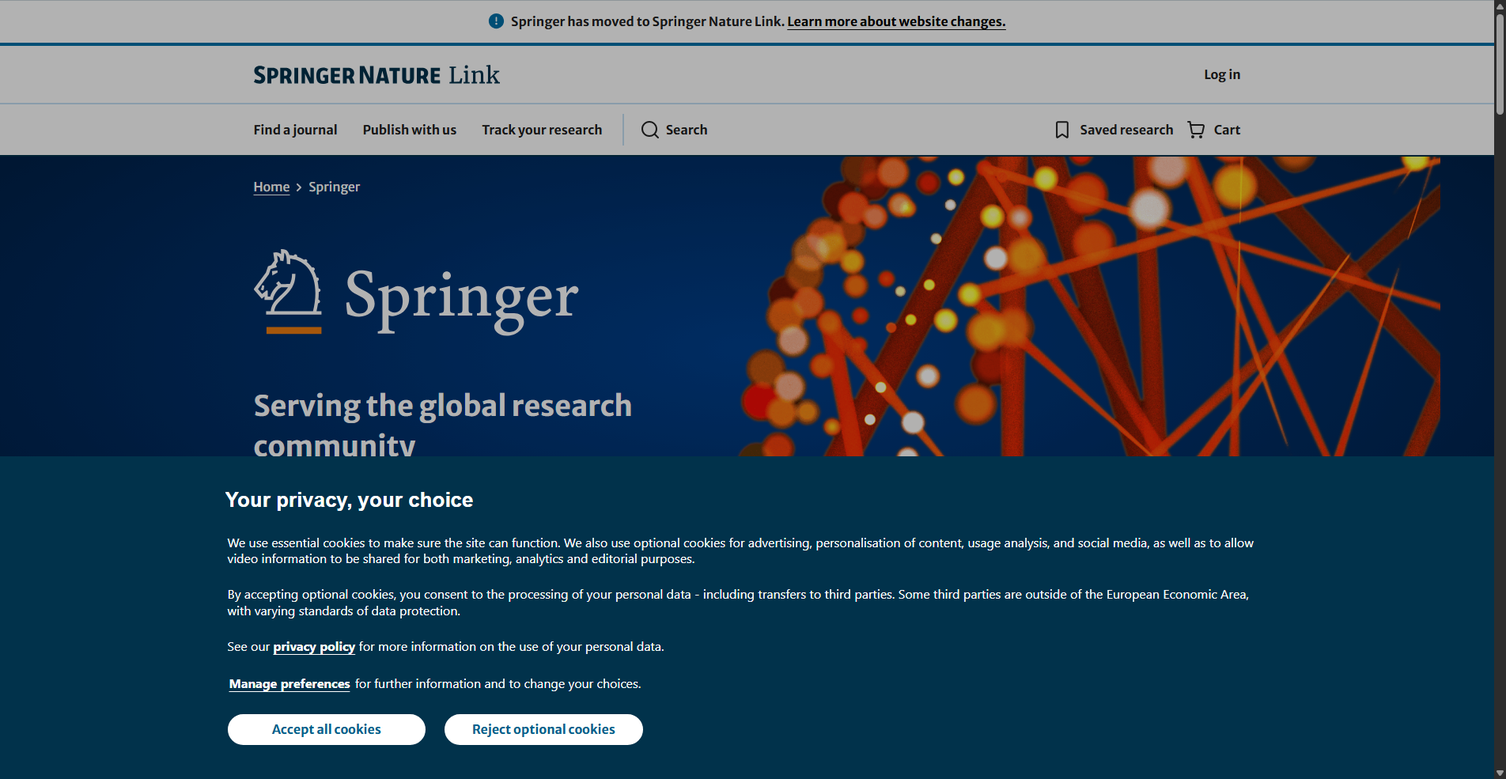button: (227, 714, 426, 745), (445, 714, 643, 745), (537, 726, 631, 765), (634, 108, 714, 152), (311, 726, 377, 765), (389, 726, 454, 765), (227, 674, 351, 692)
dropdown: (0, 720, 1494, 773)
link: (254, 282, 579, 301), (475, 108, 609, 152), (1046, 108, 1180, 152), (356, 108, 463, 152), (254, 65, 499, 84), (247, 108, 344, 152), (787, 13, 1006, 29), (1180, 108, 1247, 152), (644, 726, 702, 765), (467, 726, 524, 765), (1198, 53, 1247, 97), (254, 726, 299, 765), (273, 637, 355, 654), (254, 179, 290, 195)
menu_item: (537, 726, 631, 765), (311, 726, 377, 765), (389, 726, 454, 765), (644, 726, 702, 765), (467, 726, 524, 765), (254, 726, 299, 765)
